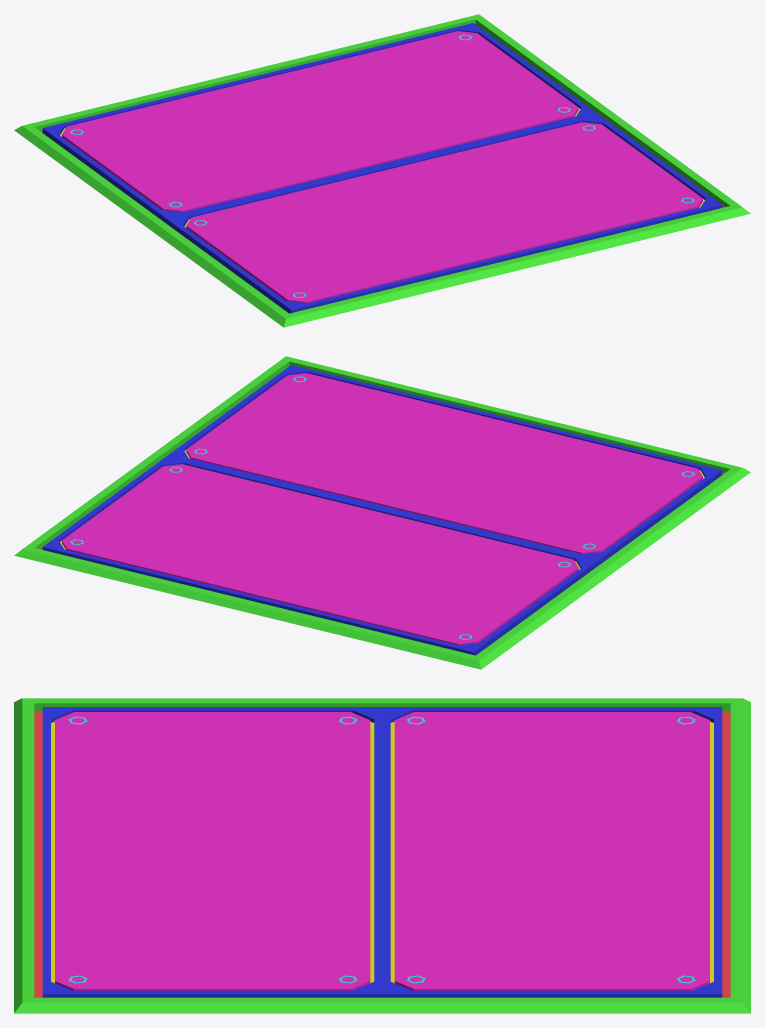
File: Floor_11_B.fbx
The picture shows the model from 3 angles, top to bottom: view 1: azimuth 30°, elevation 25°; view 2: azimuth 150°, elevation 25°; view 3: azimuth 270°, elevation 25°; orthographic projection. The views are drawn at different scales.
Parts seen in each view (by area): view 1: Floor_11_B; view 2: Floor_11_B; view 3: Floor_11_B.
Boxes of the visible parts, x1,y1,x2,y2 form: Floor_11_B: [14, 14, 750, 327]; Floor_11_B: [14, 356, 750, 669]; Floor_11_B: [14, 698, 750, 1013].
Bounding box in the file's own units: 229 × 2.69 × 229.
